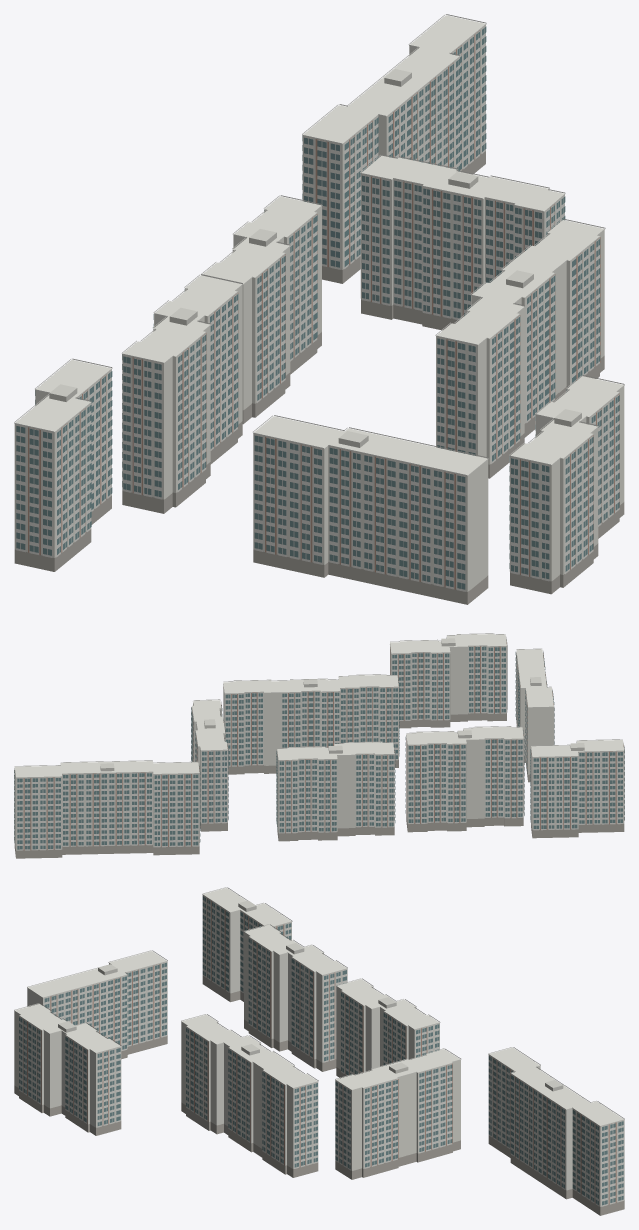
The model's file is representative-a13820004.glb.
The picture shows the model from 3 angles, top to bottom: view 1: azimuth 30°, elevation 25°; view 2: azimuth 150°, elevation 25°; view 3: azimuth 270°, elevation 25°; orthographic projection. The views are drawn at different scales.
Visible parts, largest first — view 1: A13820004_wall001, A13820004_trim001, A13820004_glass001, A13820004_accent001, A13820004_base001, A13820004_roof001; view 2: A13820004_trim001, A13820004_wall001, A13820004_glass001, A13820004_accent001, A13820004_base001, A13820004_roof001; view 3: A13820004_wall001, A13820004_trim001, A13820004_glass001, A13820004_accent001, A13820004_base001, A13820004_roof001.
Boxes of the visible parts, x1=… form: A13820004_wall001: x1=14, y1=15, x2=624, y2=591; A13820004_trim001: x1=14, y1=14, x2=624, y2=591; A13820004_glass001: x1=16, y1=26, x2=619, y2=589; A13820004_accent001: x1=28, y1=30, x2=619, y2=589; A13820004_base001: x1=14, y1=151, x2=624, y2=604; A13820004_roof001: x1=49, y1=69, x2=581, y2=447; A13820004_trim001: x1=14, y1=633, x2=624, y2=850; A13820004_wall001: x1=14, y1=634, x2=624, y2=850; A13820004_glass001: x1=14, y1=646, x2=624, y2=849; A13820004_accent001: x1=15, y1=642, x2=623, y2=850; A13820004_base001: x1=14, y1=713, x2=624, y2=858; A13820004_roof001: x1=100, y1=638, x2=584, y2=771; A13820004_wall001: x1=14, y1=888, x2=624, y2=1206; A13820004_trim001: x1=14, y1=887, x2=624, y2=1206; A13820004_glass001: x1=19, y1=896, x2=623, y2=1205; A13820004_accent001: x1=23, y1=898, x2=616, y2=1204; A13820004_base001: x1=14, y1=976, x2=624, y2=1215; A13820004_roof001: x1=58, y1=900, x2=563, y2=1091.
Size of the model in its own units: 223 by 43.5 by 241.
